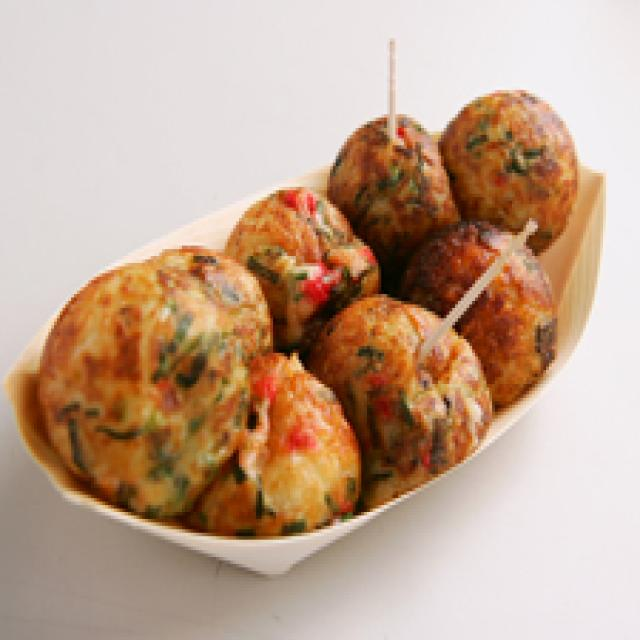炸货点心: (0, 66, 640, 574)
